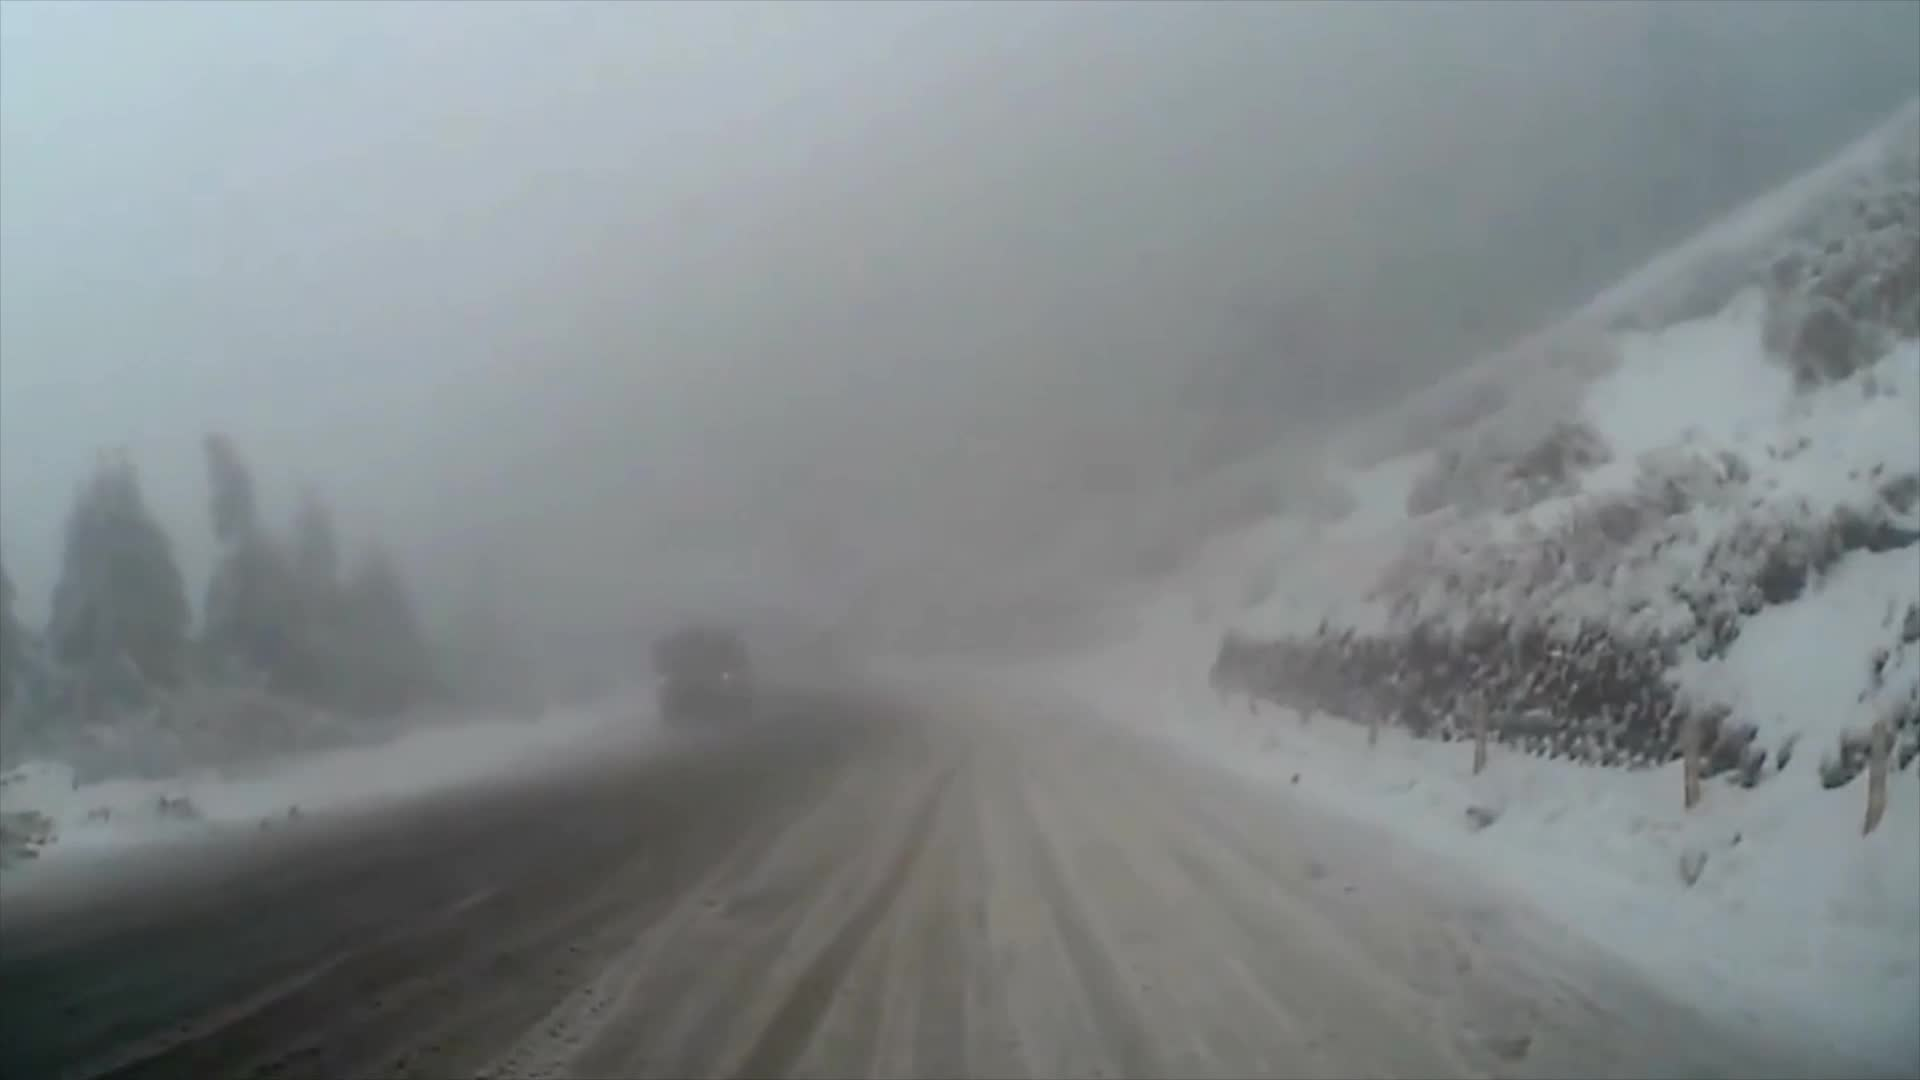vehicle: (650, 626, 756, 723)
